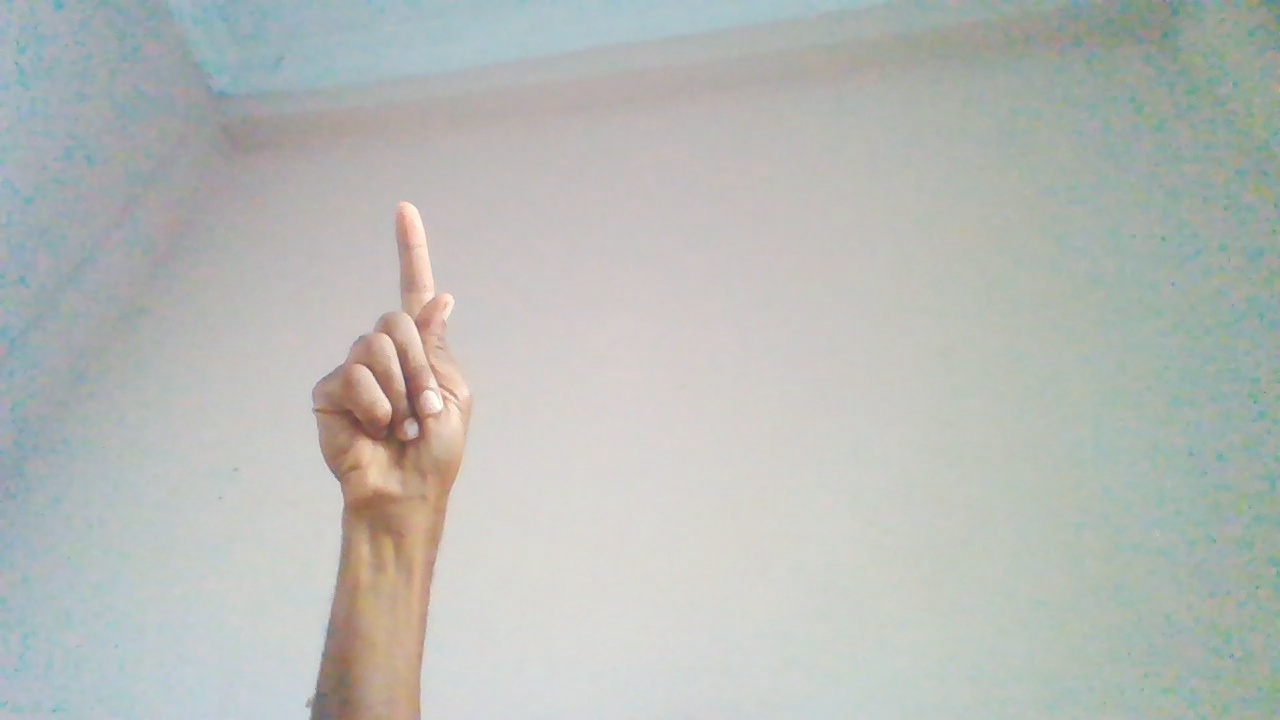ne: (307, 206, 478, 585)
